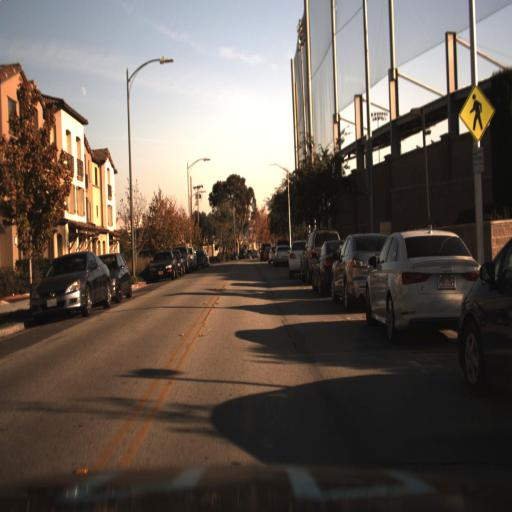car: (362, 218, 481, 339), (359, 221, 463, 352), (457, 228, 512, 406), (25, 240, 114, 335), (327, 230, 366, 311), (311, 236, 342, 301), (110, 251, 138, 311), (311, 237, 330, 306), (147, 245, 176, 288)
